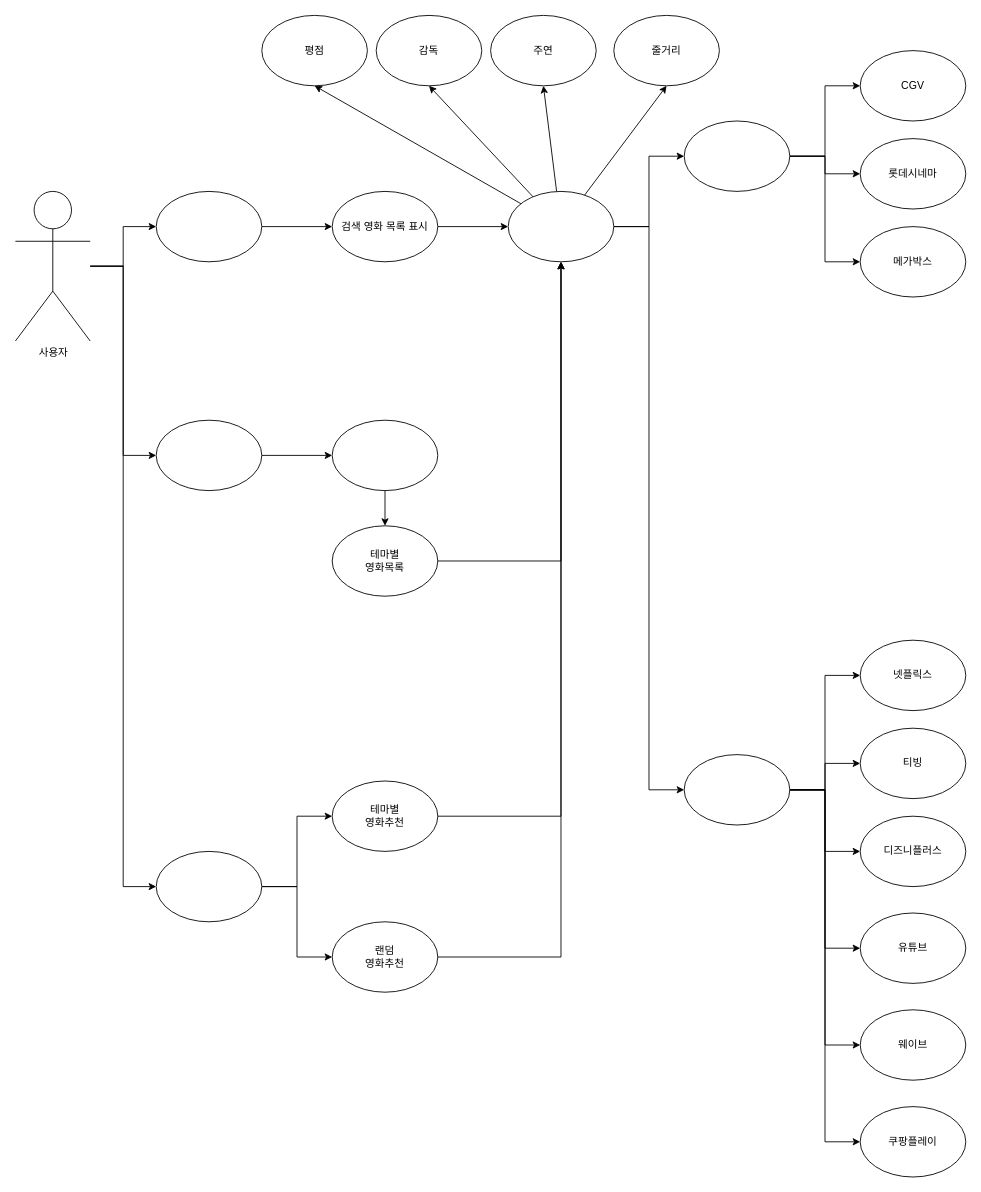
This 981x1192 diagram has some shape labels left out. The shapes that lost their labels are listed below. From the top down, each one's centre as x and y in pixels, then its label:
point (736, 155): 예매 사이트 이동
point (208, 226): 검색창으로 영화검색
point (560, 226): 영화 상세 정보
point (208, 455): 테마별 영화검색
point (384, 455): 테마선택
point (736, 789): OTT 사이트 이동
point (208, 886): 영화추천
